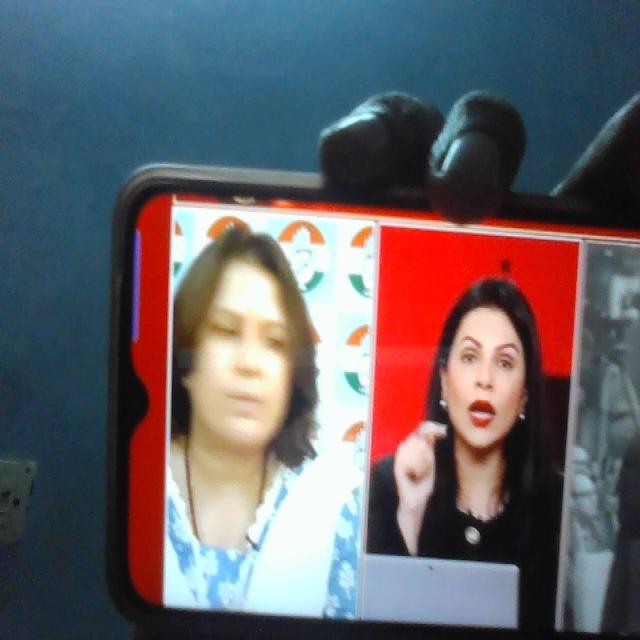fake: (175, 203, 311, 460), (431, 253, 542, 464)
